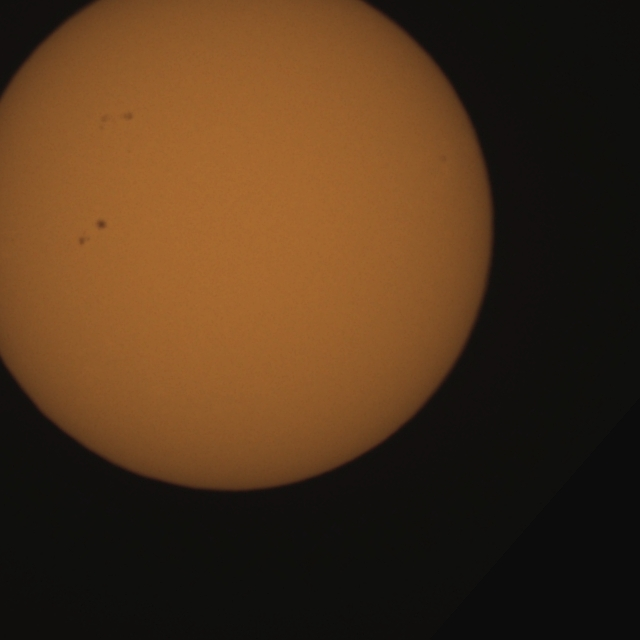sunspot: (77, 218, 109, 247), (98, 112, 110, 132), (77, 233, 91, 247), (94, 218, 108, 231), (121, 110, 134, 123)
